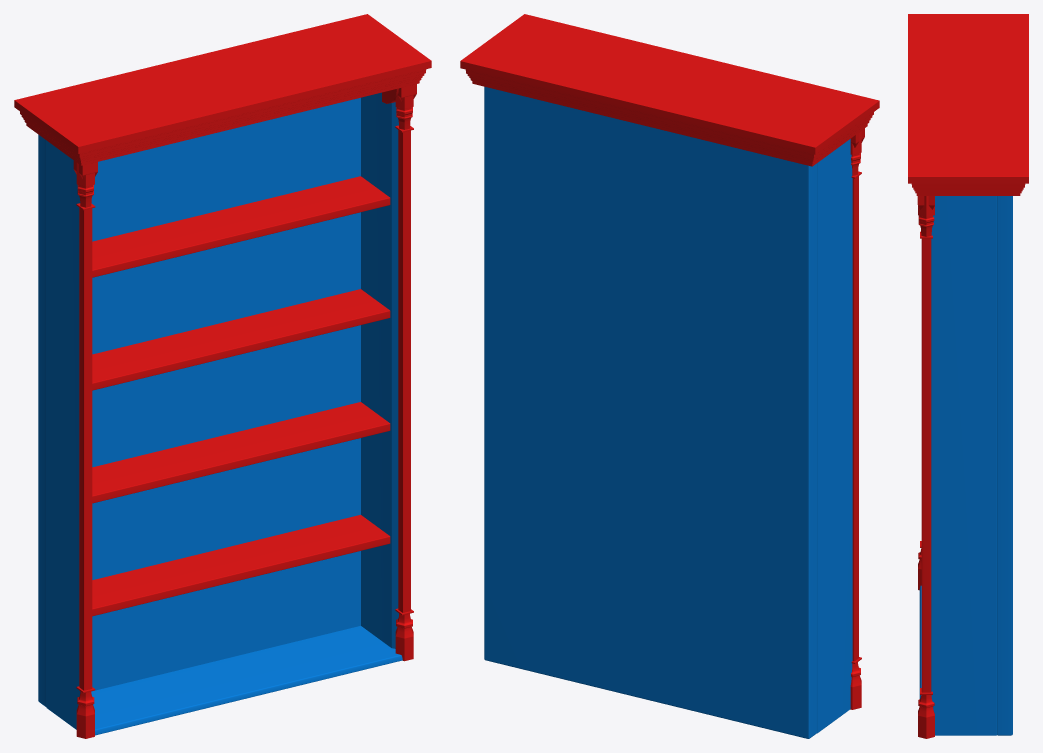
Rendered from Book_Shelf.fbx.
3 renders of one model, left to right at view 1: azimuth 30°, elevation 25°; view 2: azimuth 150°, elevation 25°; view 3: azimuth 270°, elevation 25°, orthographic. The views are drawn at different scales.
Parts seen in each view (by area): view 1: Book_Shelf; view 2: Book_Shelf; view 3: Book_Shelf.
Boxes of the visible parts, x1,y1,x2,y2 form: Book_Shelf: [14, 14, 431, 738]; Book_Shelf: [460, 14, 879, 738]; Book_Shelf: [908, 14, 1028, 738].
Bounding box in the file's own units: 81.66 × 132 × 25.62.
